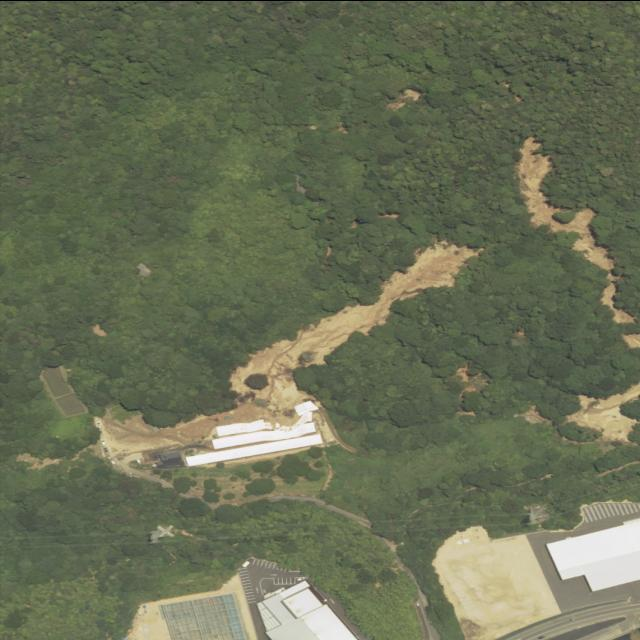landslide: (231, 240, 481, 408), (517, 135, 635, 323)
